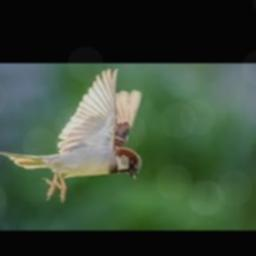Sparrow: (0, 69, 144, 202)
